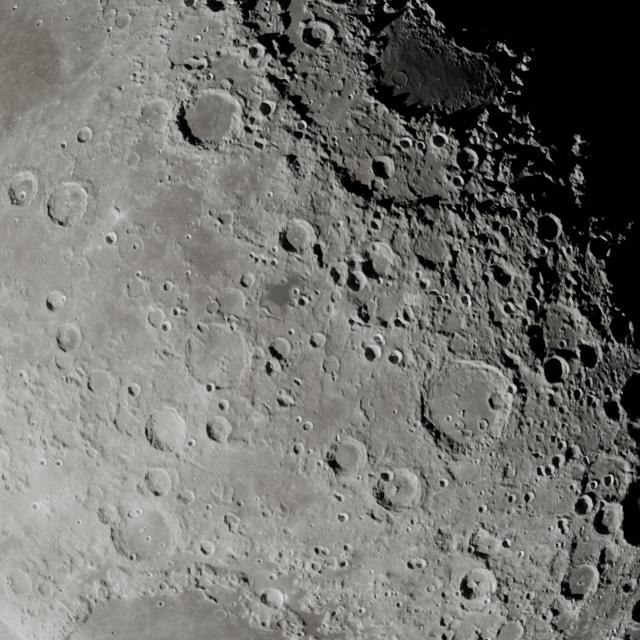crater: (48, 182, 89, 226), (332, 437, 367, 474), (213, 286, 250, 320), (461, 567, 497, 601), (367, 241, 398, 276), (284, 218, 316, 251), (566, 564, 598, 597), (145, 468, 174, 496), (542, 355, 570, 384), (56, 323, 82, 352), (206, 416, 233, 443), (7, 568, 33, 596), (88, 369, 114, 396), (576, 343, 600, 370), (371, 156, 395, 180), (491, 262, 514, 286), (457, 147, 479, 171), (97, 502, 119, 526), (260, 588, 284, 609), (270, 337, 292, 359), (45, 290, 67, 312), (574, 495, 594, 516), (362, 341, 382, 362), (276, 389, 295, 407), (114, 12, 132, 30), (390, 71, 409, 88), (323, 356, 340, 373), (240, 272, 256, 288), (310, 332, 326, 348), (76, 126, 92, 142), (199, 540, 215, 556), (180, 489, 196, 504), (388, 349, 403, 365), (372, 177, 387, 193), (218, 212, 234, 226), (127, 382, 141, 397), (398, 137, 413, 151), (127, 152, 141, 166), (216, 398, 230, 412), (314, 545, 330, 557), (62, 248, 75, 262), (450, 175, 464, 188), (369, 218, 382, 232), (459, 294, 472, 308), (379, 470, 394, 482), (205, 302, 218, 314), (292, 443, 305, 455), (105, 232, 117, 245), (297, 295, 310, 307), (372, 333, 385, 345), (604, 474, 615, 488), (253, 348, 265, 360), (523, 492, 535, 504), (107, 338, 118, 350), (296, 121, 308, 132), (163, 280, 174, 291), (478, 419, 489, 430), (161, 321, 171, 332), (302, 421, 313, 431), (18, 370, 28, 380), (283, 526, 293, 536), (292, 377, 302, 387), (186, 438, 196, 448), (158, 582, 168, 592), (438, 479, 448, 489), (589, 480, 599, 490), (478, 504, 488, 514), (153, 224, 162, 235), (291, 287, 300, 297), (343, 543, 353, 552), (206, 383, 215, 393), (558, 339, 568, 348), (268, 572, 278, 581), (205, 72, 214, 82), (356, 606, 366, 615), (131, 242, 140, 251), (31, 502, 40, 511), (507, 494, 516, 503), (192, 34, 202, 42), (270, 258, 279, 266), (29, 418, 37, 427), (55, 458, 63, 467), (294, 416, 303, 424), (134, 270, 142, 278), (288, 328, 296, 336), (445, 414, 453, 422), (156, 600, 164, 608), (346, 93, 354, 101), (185, 233, 192, 241), (76, 518, 83, 526), (266, 191, 274, 198), (346, 136, 354, 143), (60, 141, 67, 149), (185, 270, 192, 277)
rock: (9, 171, 39, 206), (536, 213, 564, 242), (398, 204, 424, 230), (247, 43, 266, 61), (432, 132, 448, 148)
